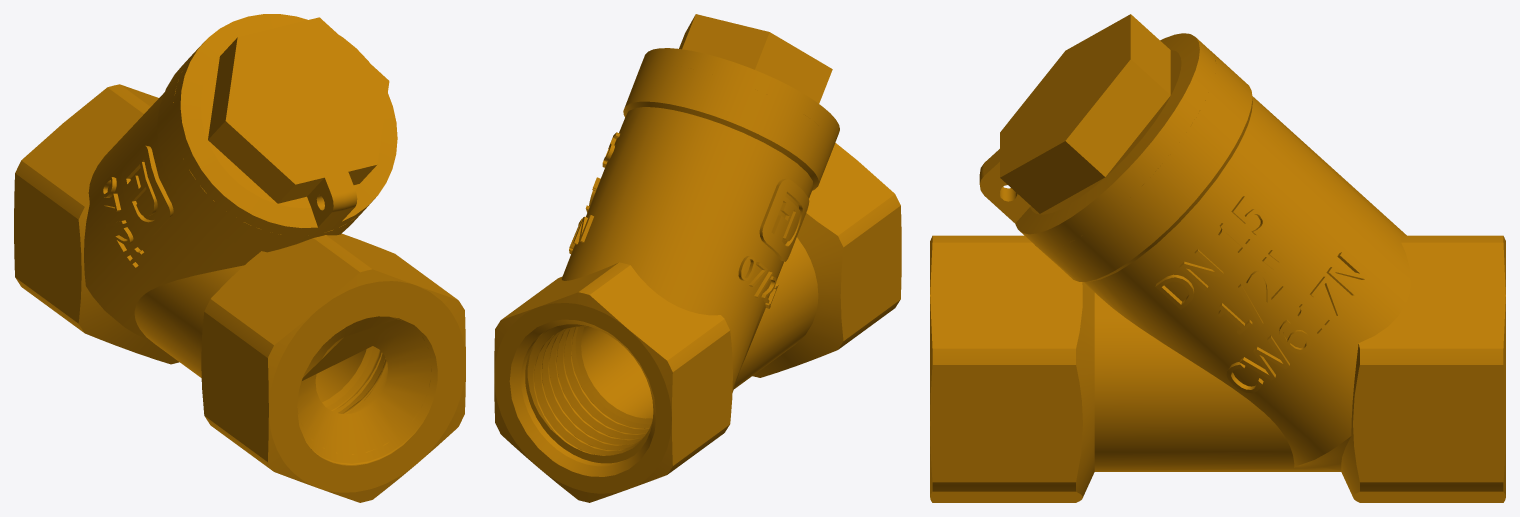
3 renders of one model, left to right at view 1: azimuth 30°, elevation 25°; view 2: azimuth 150°, elevation 25°; view 3: azimuth 270°, elevation 25°, orthographic. The views are drawn at different scales.
Parts seen in each view (by area): view 1: NONE(1), F1_cap; view 2: NONE(1), F1_cap; view 3: NONE(1), F1_cap.
Boxes of the visible parts, <box> form: NONE(1): <box>14,50,465,502</box>; F1_cap: <box>173,14,397,235</box>; NONE(1): <box>494,64,901,502</box>; F1_cap: <box>639,14,839,147</box>; NONE(1): <box>930,51,1505,502</box>; F1_cap: <box>979,14,1216,249</box>.
Bounding box in the file's own units: 2.55 × 4.97 × 5.6.
